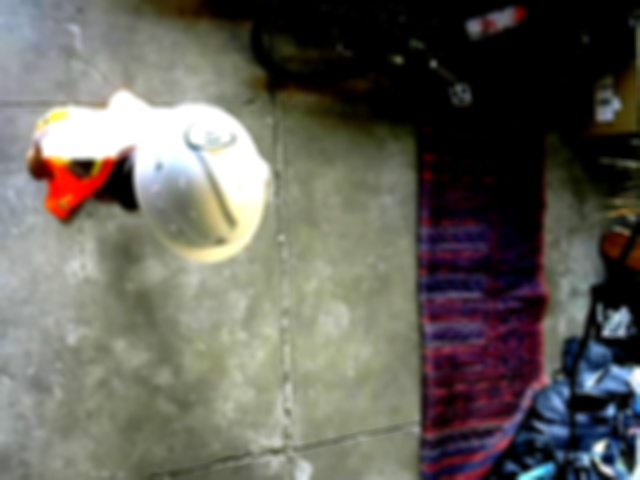three: (186, 117, 234, 148)
